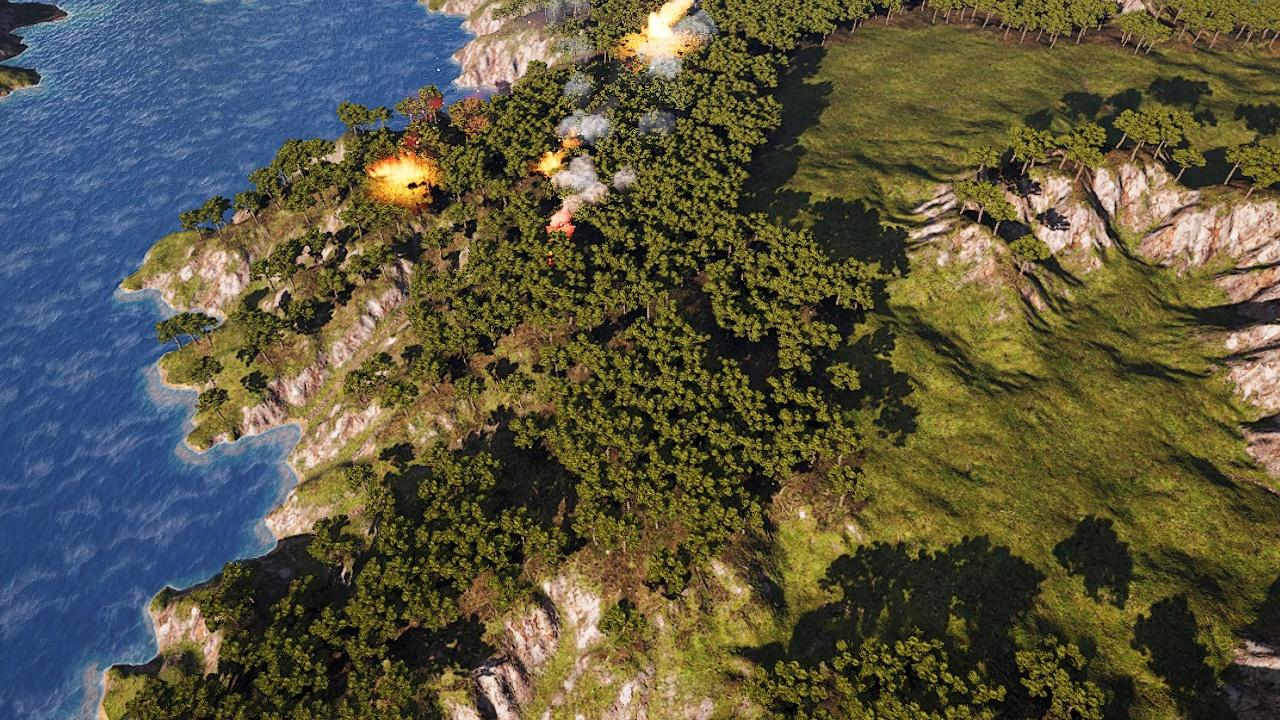fire: (633, 0, 715, 72), (367, 155, 429, 188), (537, 138, 577, 178)
smoke: (539, 107, 678, 237)
